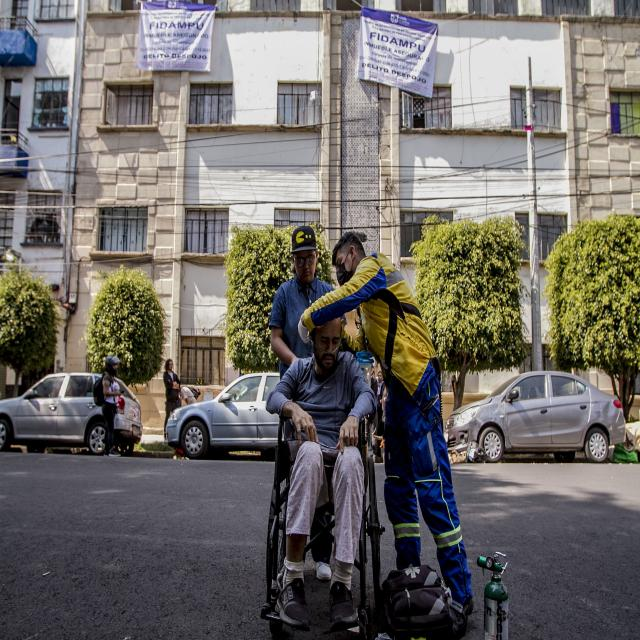stamps: (355, 7, 439, 98), (136, 2, 216, 71)
